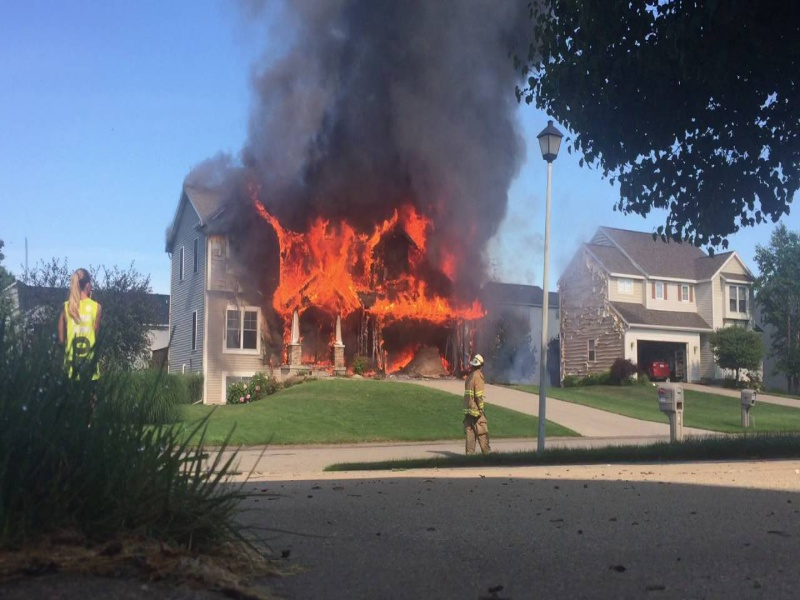fire: (263, 209, 487, 324), (383, 339, 420, 376)
